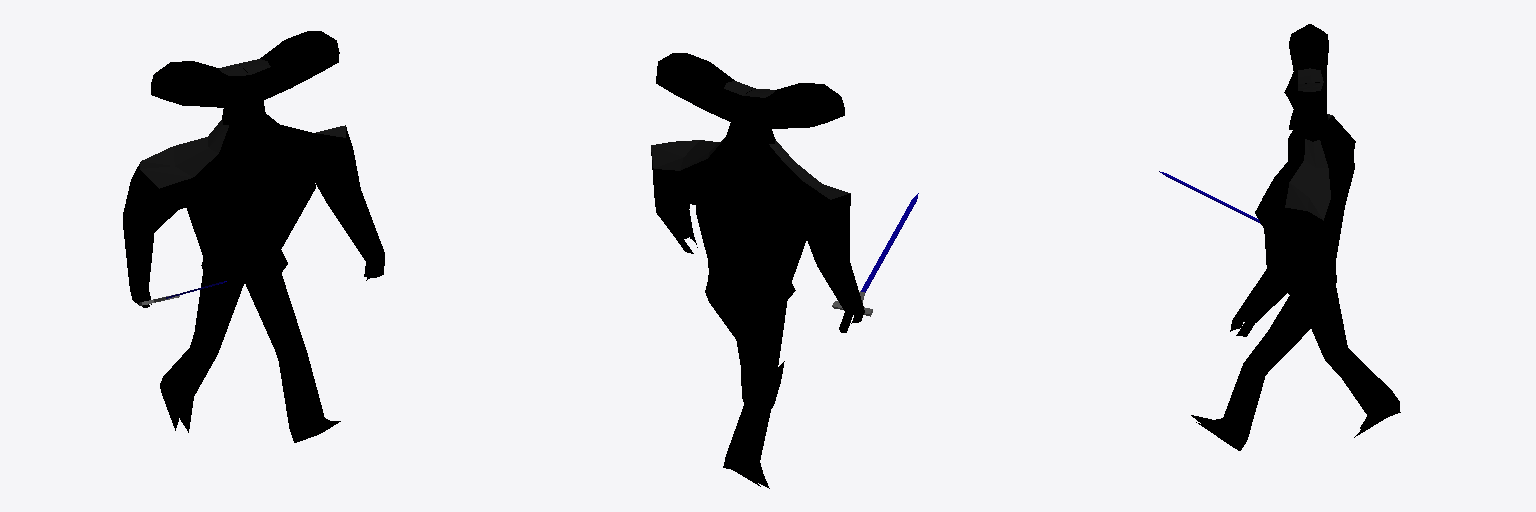
The model's file is Swordsman1w.obj.
The picture shows the model from 3 angles: view 1: azimuth 30°, elevation 25°; view 2: azimuth 150°, elevation 25°; view 3: azimuth 270°, elevation 25°; orthographic projection.
Visible parts, largest first — view 1: Cube; view 2: Cube, Cube.001_Sword; view 3: Cube.
Boxes of the visible parts, x1=… form: Cube: x1=123, y1=31, x2=384, y2=442; Cube: x1=651, y1=53, x2=864, y2=488; Cube.001_Sword: x1=832, y1=193, x2=918, y2=316; Cube: x1=1191, y1=24, x2=1400, y2=450.
Bounding box in the file's own units: 0.9395 × 1.58 × 0.8793.